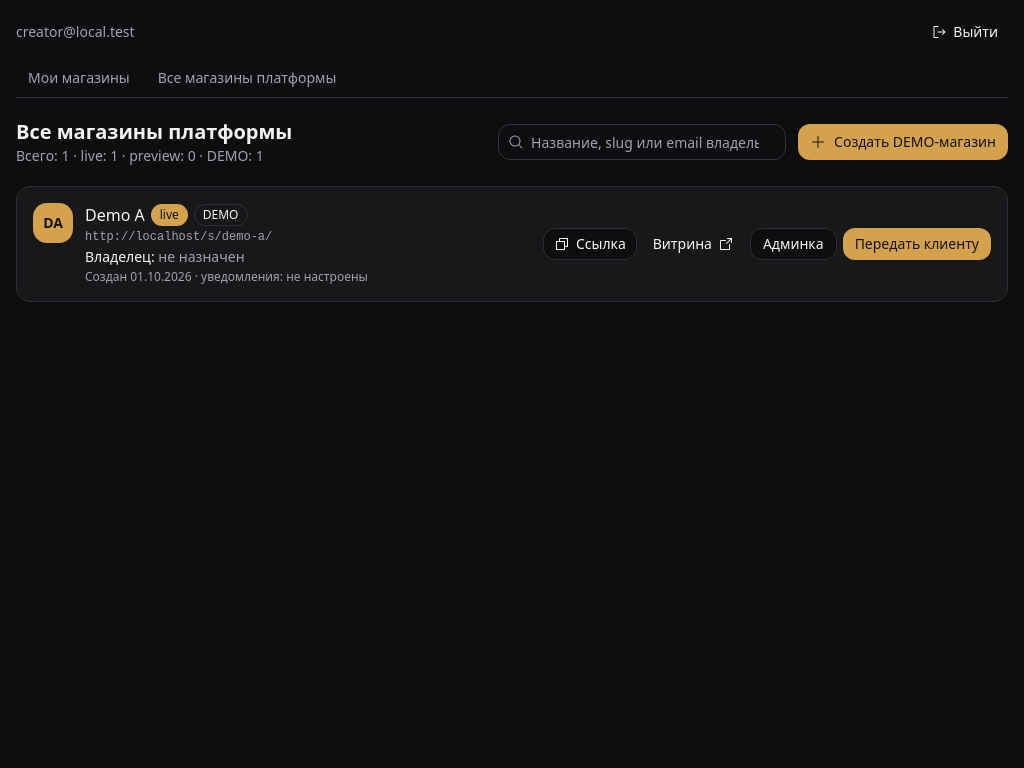
Test case: Все магазины платформы › hand-over to a client: blocked when not ready; otherwise e-mail + payment confirmation → invitation result
The image size is (1024, 768).
Click the button with test id "platform-handover" at (917, 244), box [843, 228, 991, 260]
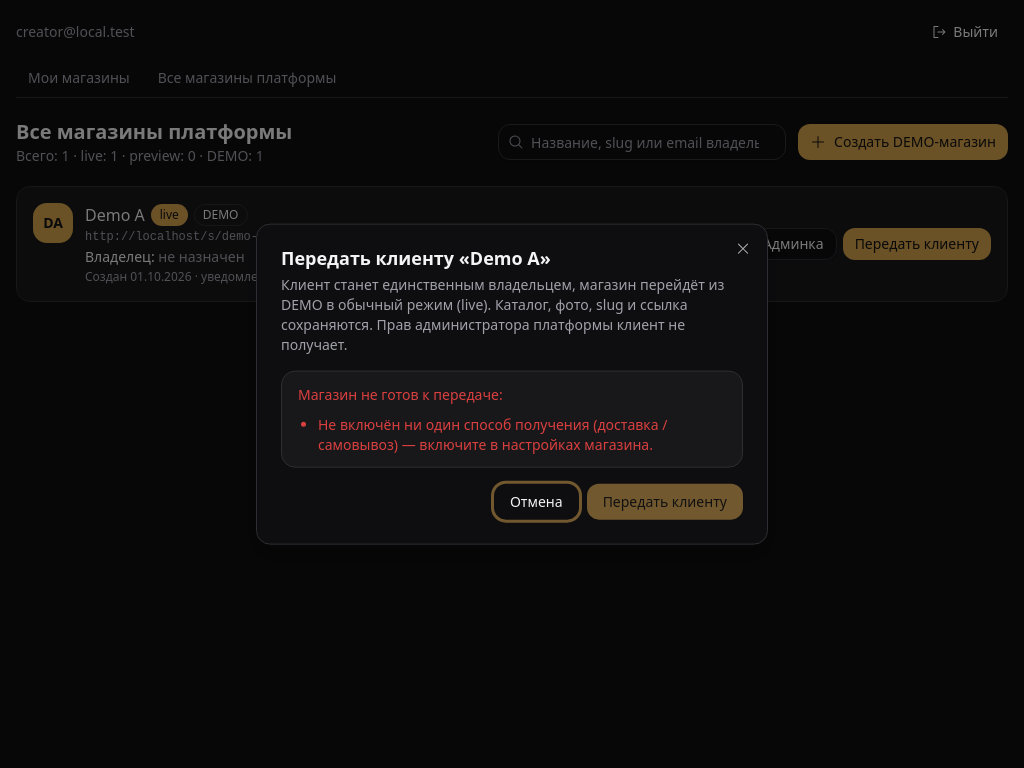
Result: the message with test id "handover-not-ready" shows "Не включён ни один способ получения" at [318, 414, 668, 453]
Result: the button with test id "handover-confirm" is disabled at [587, 483, 743, 519]
Click the button "Отмена" at (536, 501), box [494, 483, 579, 519]
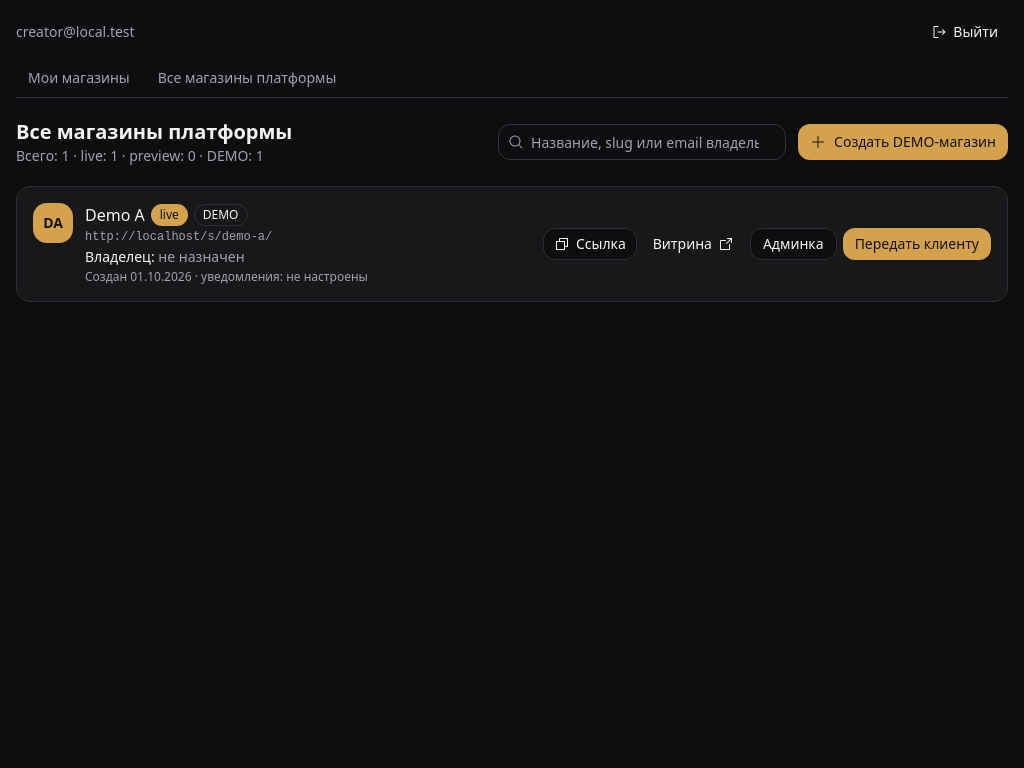
Click the button with test id "platform-handover" at (917, 244), box [843, 228, 991, 260]
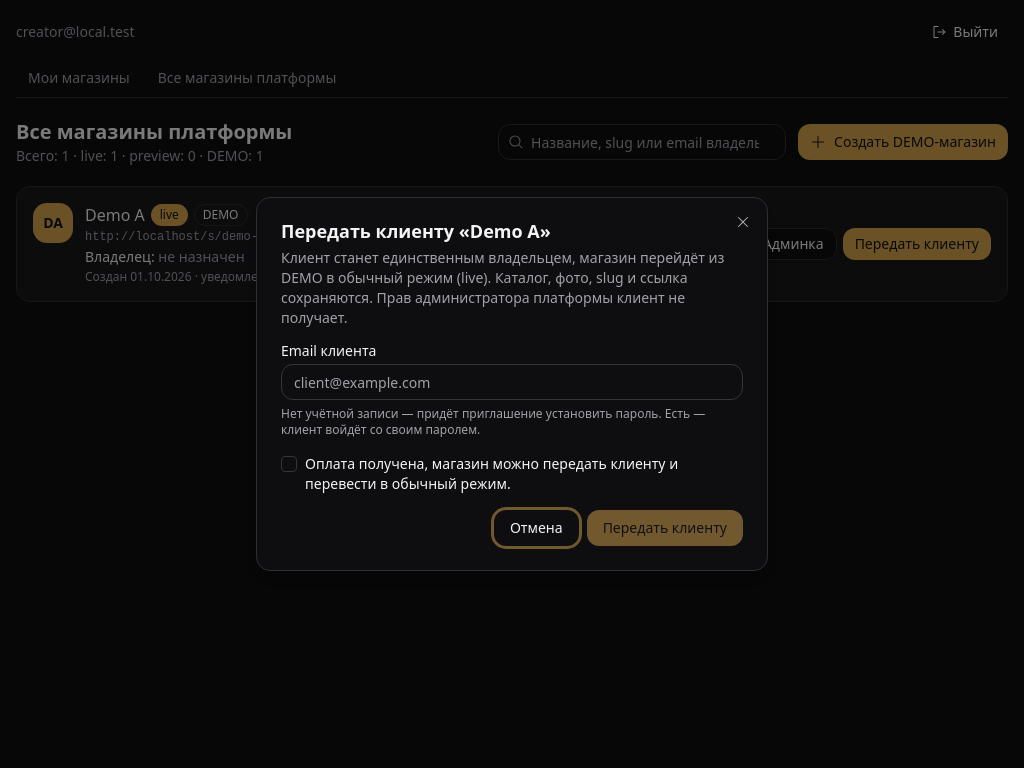
Type "client@local.test" into the field with test id "handover-email" at (512, 382), box [281, 364, 743, 400]
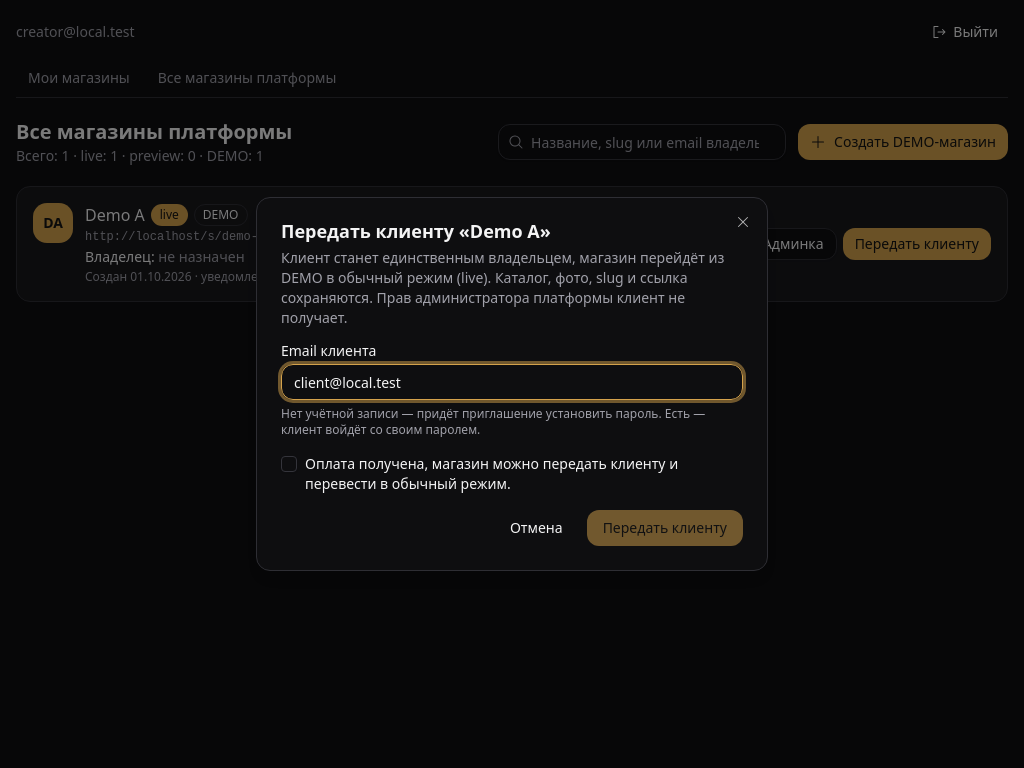
Result: the button with test id "handover-confirm" is disabled at [587, 510, 743, 546]
Click the checkbox with test id "handover-paid" at (289, 464), box [281, 456, 297, 472]
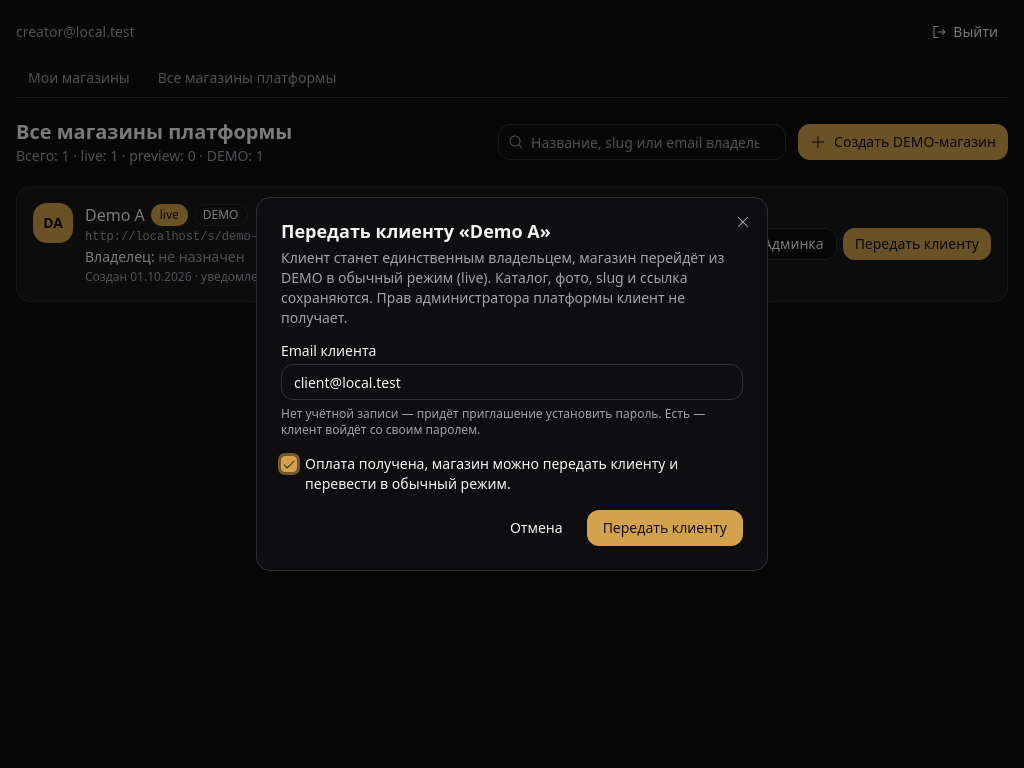
Result: the button with test id "handover-confirm" is enabled
Click the button with test id "handover-confirm" at (665, 528), box [587, 510, 743, 546]
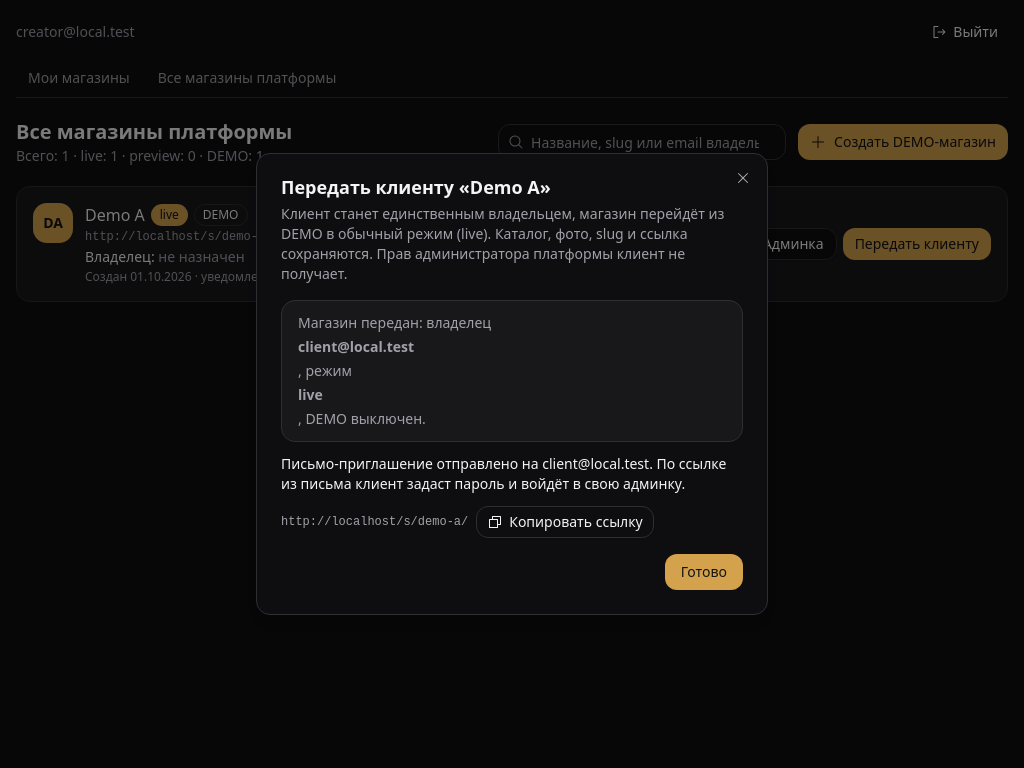
Result: the text with test id "handover-invitation" shows "Письмо-приглашение отправлено на client@local.test" at [281, 454, 743, 494]
